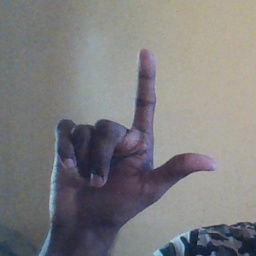L: (48, 47, 221, 220)
